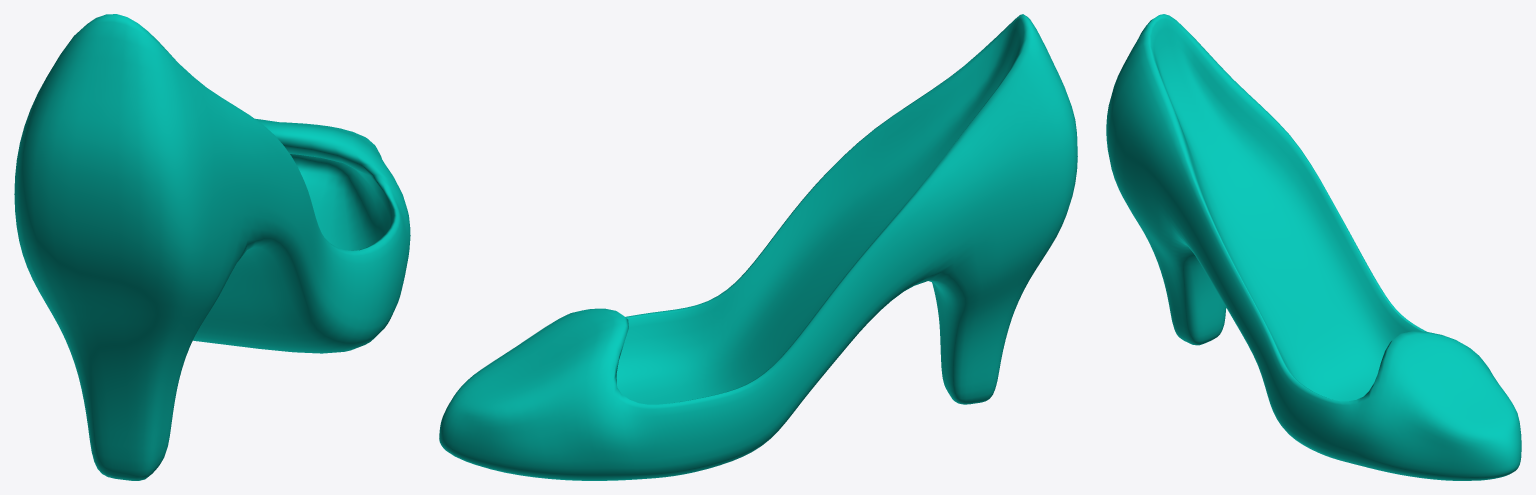
File: Heel2.fbx
3 renders of one model, left to right at view 1: azimuth 30°, elevation 25°; view 2: azimuth 150°, elevation 25°; view 3: azimuth 270°, elevation 25°, orthographic. The views are drawn at different scales.
Parts seen in each view (by area): view 1: HeelRightNOBOW1; view 2: HeelRightNOBOW1; view 3: HeelRightNOBOW1.
Part boxes in pixels (bbox=[...]): HeelRightNOBOW1: bbox=[14, 14, 410, 480]; HeelRightNOBOW1: bbox=[439, 14, 1077, 480]; HeelRightNOBOW1: bbox=[1106, 14, 1521, 480].
Bounding box in the file's own units: 2.85 × 2.41 × 2.78.
